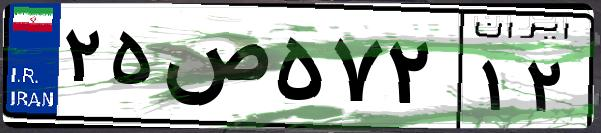1: (475, 38, 525, 113)
2: (385, 28, 445, 110), (57, 26, 110, 100), (525, 38, 570, 115)
5: (270, 28, 330, 110), (110, 28, 158, 98)
7: (330, 28, 385, 110)
ص: (158, 20, 270, 120)
